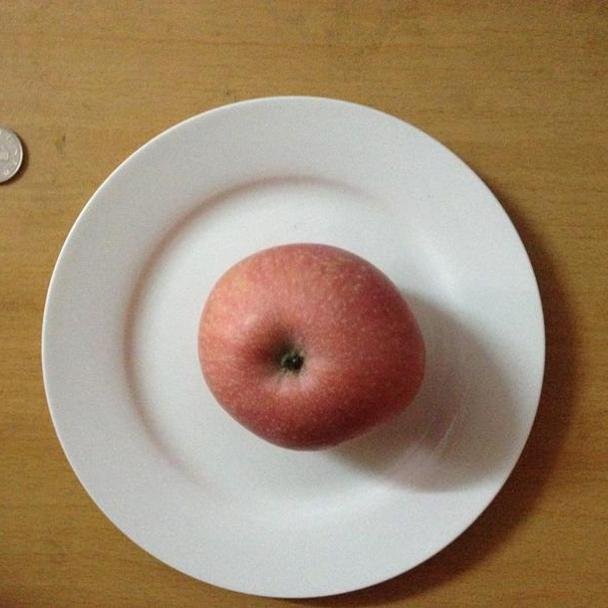apple: (194, 238, 427, 451)
